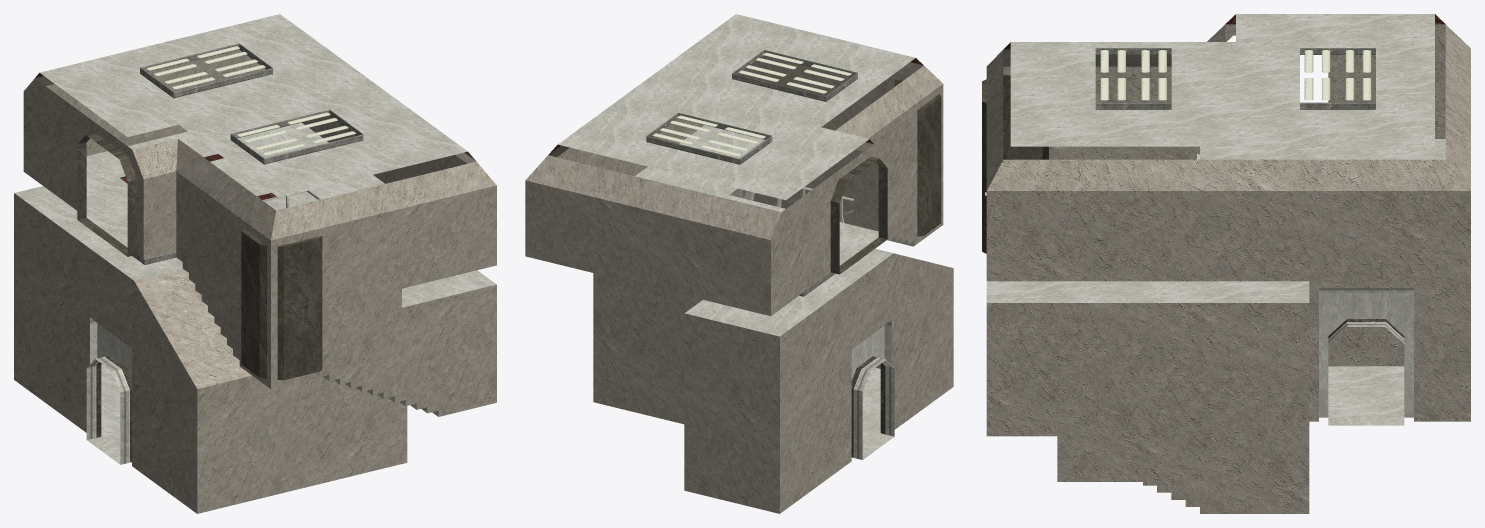
The model's file is ply_tato_assoc_hall_civ_s01_r4_stairwella_mesh_stairwella.fbx.
The picture shows the model from 3 angles, left to right: view 1: azimuth 30°, elevation 25°; view 2: azimuth 150°, elevation 25°; view 3: azimuth 270°, elevation 25°; orthographic projection. The views are drawn at different scales.
Visible parts, largest first — view 1: mesh_node; view 2: mesh_node; view 3: mesh_node.
Part boxes in pixels (<box>): mesh_node: <box>14,14,496,513</box>; mesh_node: <box>525,14,953,513</box>; mesh_node: <box>982,14,1470,513</box>.
Size of the model in its own units: 9.45 by 10.58 by 12.86.
